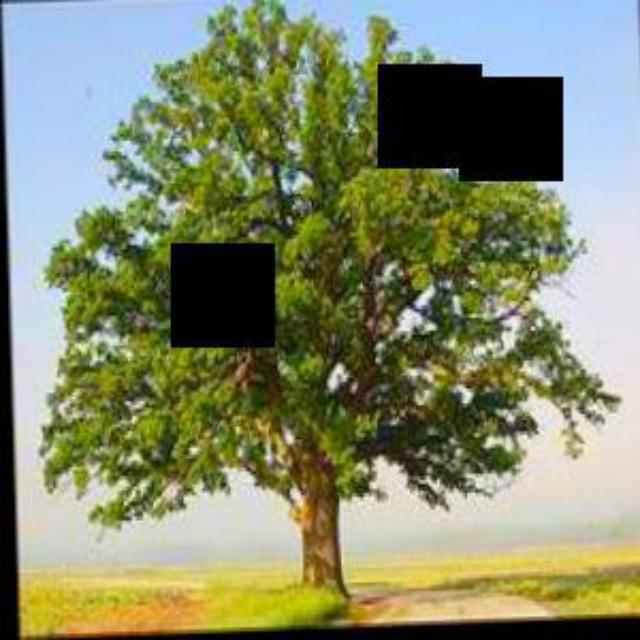tree: (25, 1, 622, 600)
